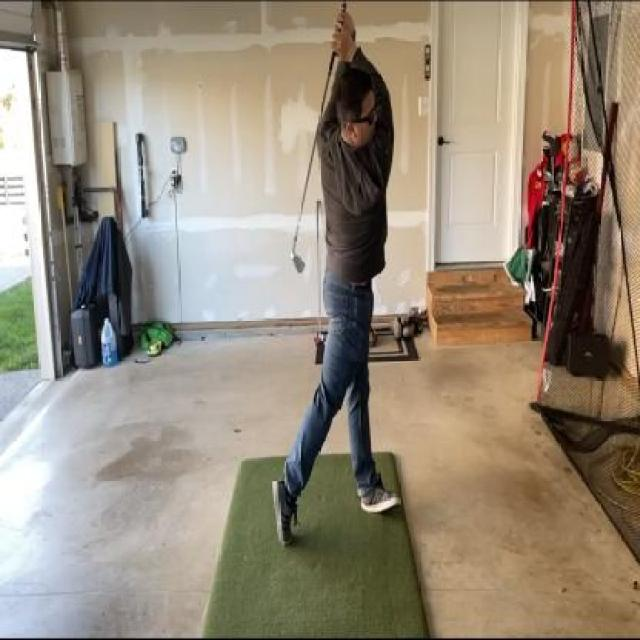club head: (288, 232, 307, 276)
